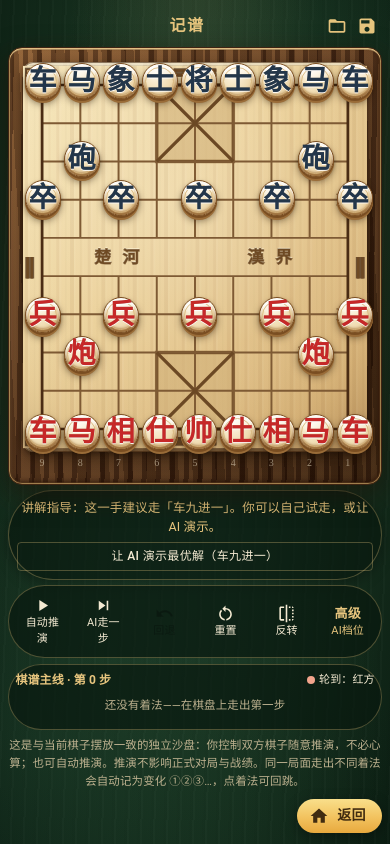
Test case: simulation hintMode contract › move mode shows the generic hint and plays the passed legal move
Expected: the text "讲解指导：这一手建议走「车九进一」。你可以自己试走，或让 AI 演示。" is shown, [17,499,373,537]
Click the button with test id "show-best" at (195, 556), box [17,542,373,571]
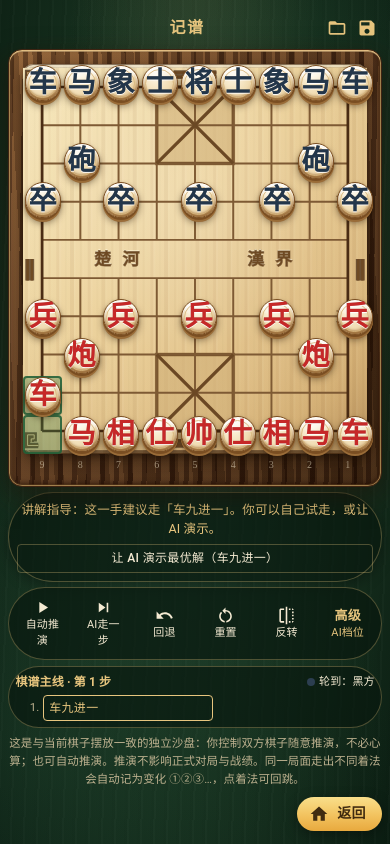
Expected: the button "车九进一" is shown, [43,695,213,721]
